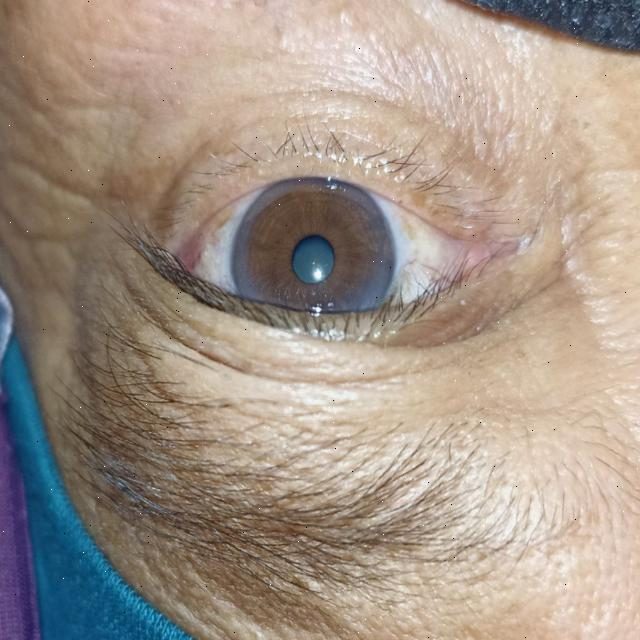Cataract: (226, 172, 397, 358)
